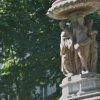Statue: (41, 3, 100, 100)
